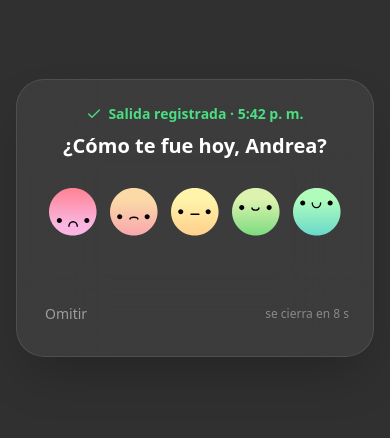
la carita › se guarda en el momento en que se toca, y dice su nombre
The width and height of the screenshot is (390, 438).
Click the radio button named "Mal": (134, 212) x1=106 y1=184 x2=162 y2=240
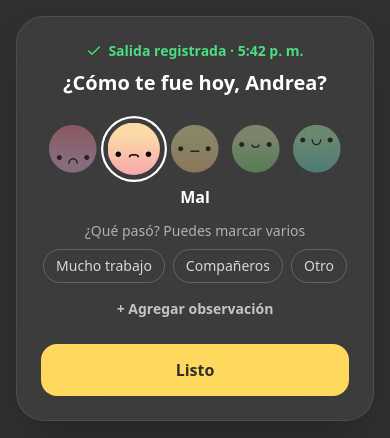
Now the text "Mal" is shown, box x1=180 y1=186 x2=210 y2=208
